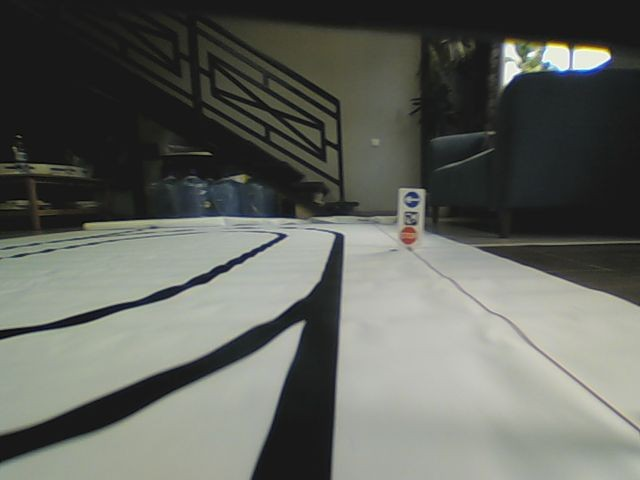Stop: (399, 225, 418, 245)
